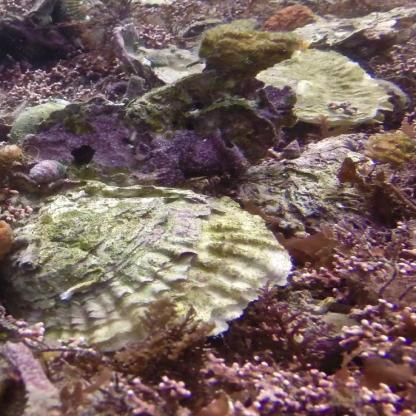Oyster-Closed: (6, 180, 298, 357), (263, 47, 385, 125), (118, 69, 216, 128)
